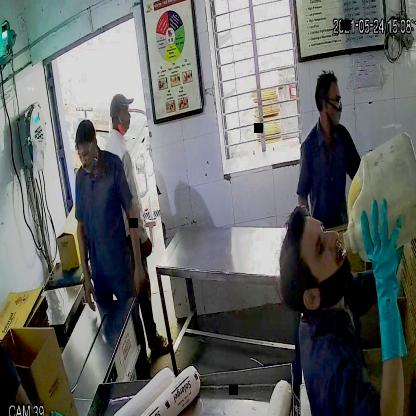goggles: (75, 144, 96, 162)
no_goggles: (303, 201, 330, 308)
